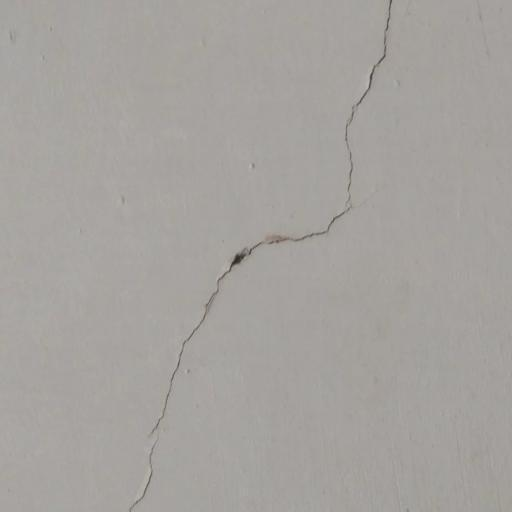major_crack: (135, 0, 416, 512)
